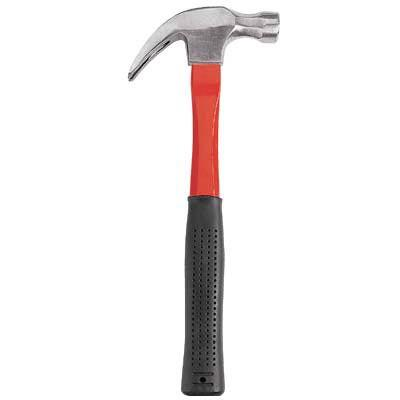hammer: (124, 3, 282, 398)
